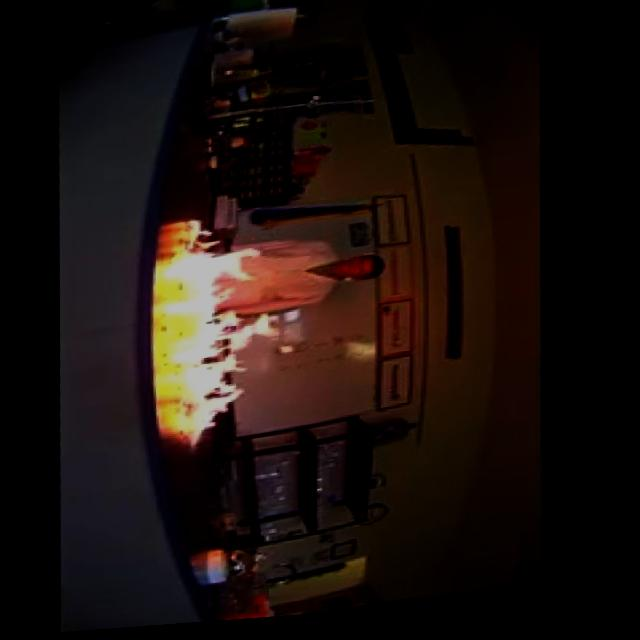helmet: (163, 206, 305, 461)
